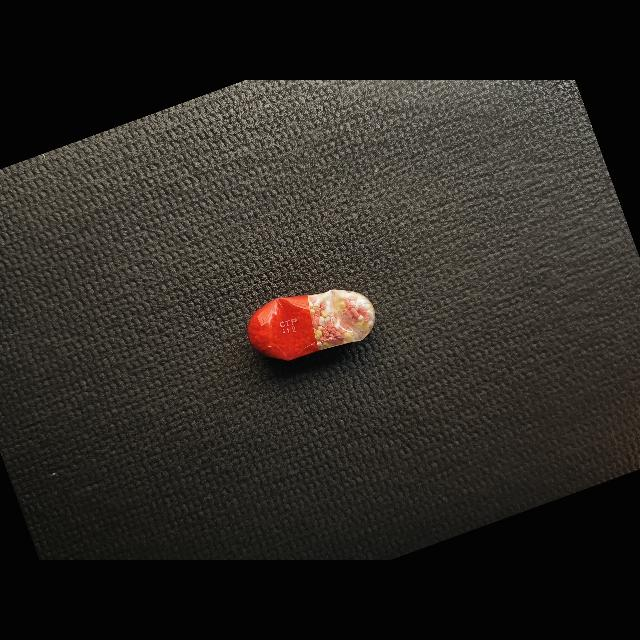Defective Capsule: (247, 289, 375, 361)
